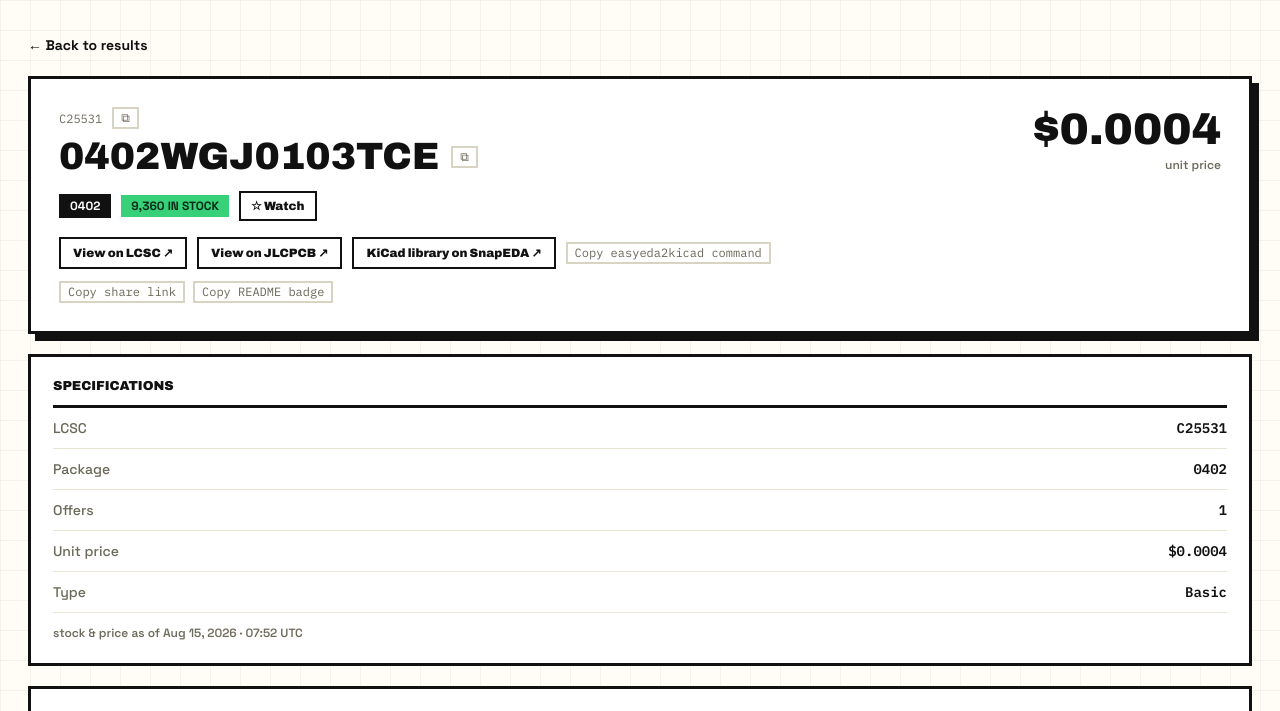
Test: copies a share link whose preview shows the part
The image size is (1280, 711).
Click the button "Copy share link".
click(122, 292)  # box [59,281,185,303]
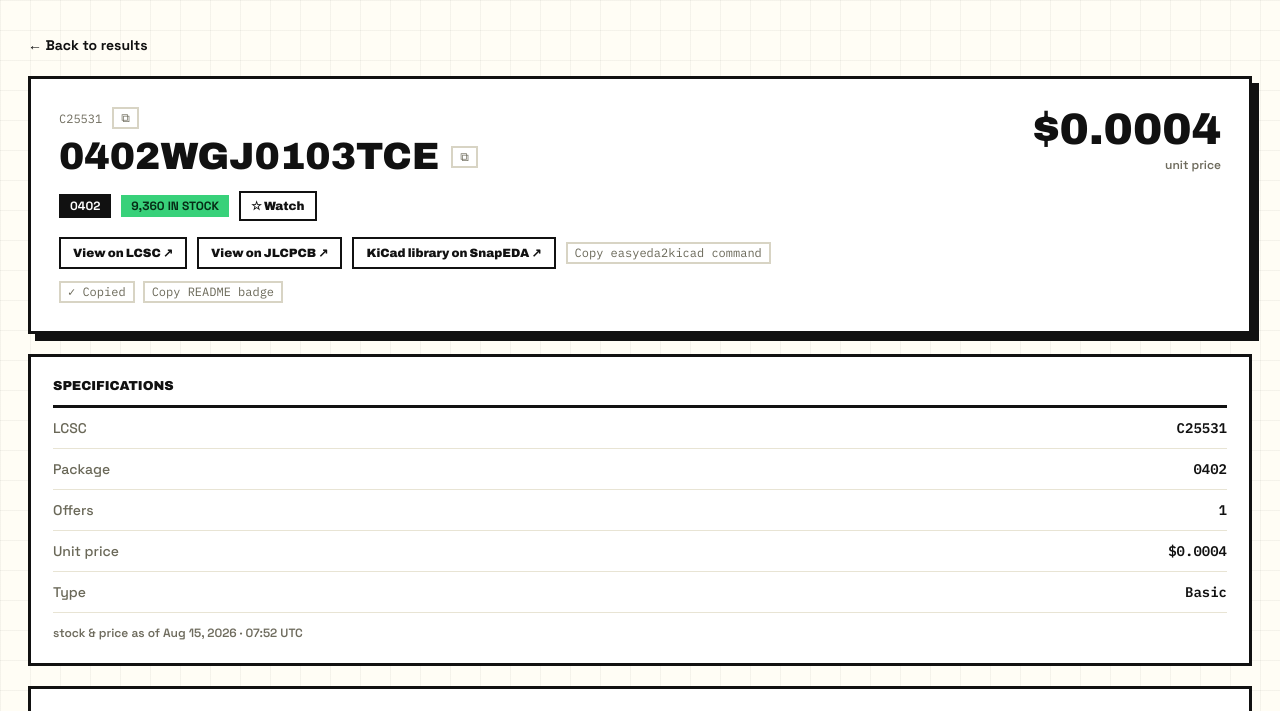
Expected: the button "✓ Copied" is shown, [59,281,135,303]
